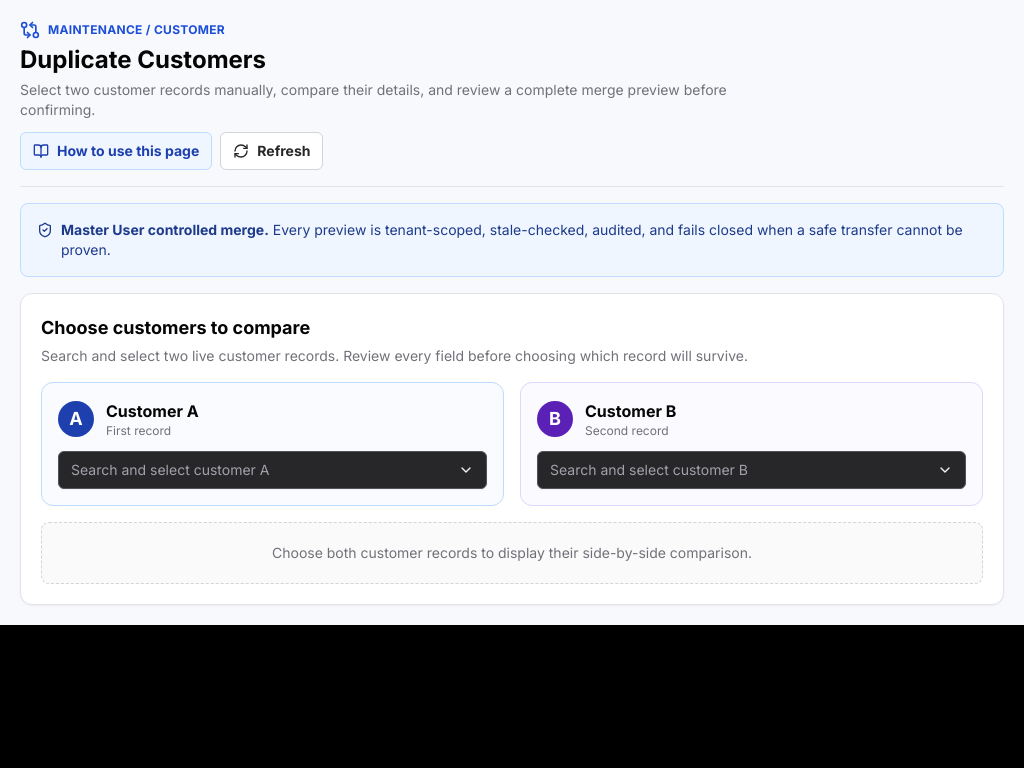
DuplicateCustomersView › starts both customer pickers empty, excludes records without IDs, and keeps IDs out of option labels
Check: the button "Search and select customer B" is shown, box [537,451,966,489]
Click the button "Search and select customer A": (170, 470) [58,451,487,489]
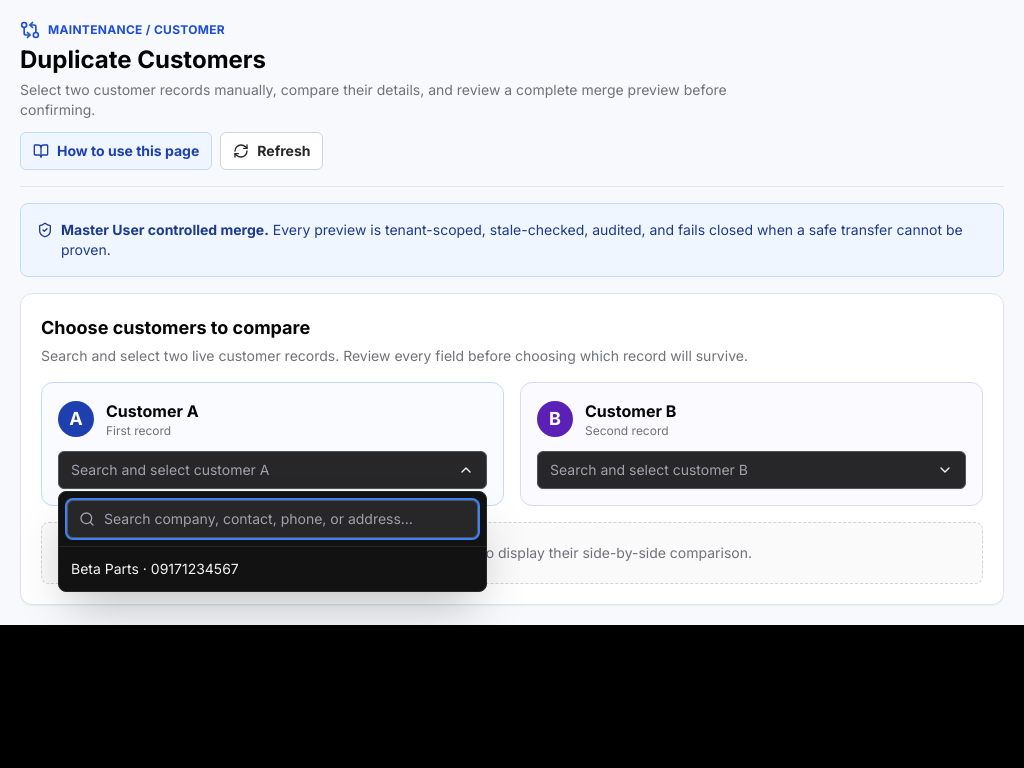
Check: the button "Beta Parts · 09171234567" is shown, box [59,551,486,587]
